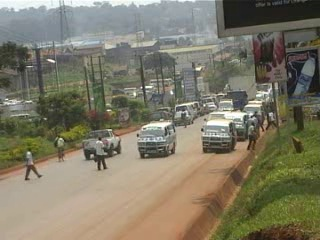Car: (146, 110, 175, 128), (173, 106, 193, 127), (202, 100, 218, 113)
